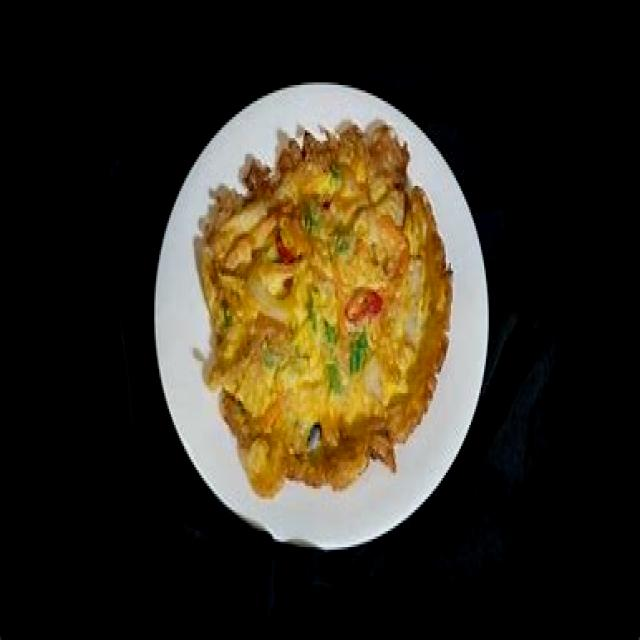telur dadar: (192, 120, 454, 505)
